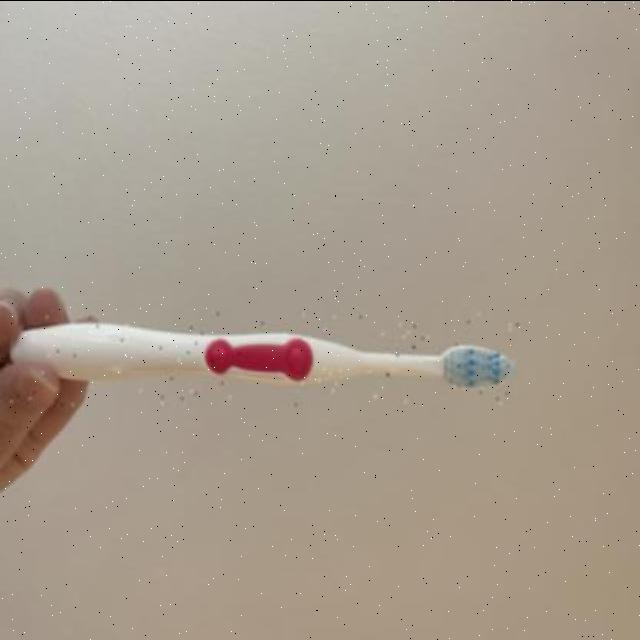toothbrush: (9, 312, 522, 404)
